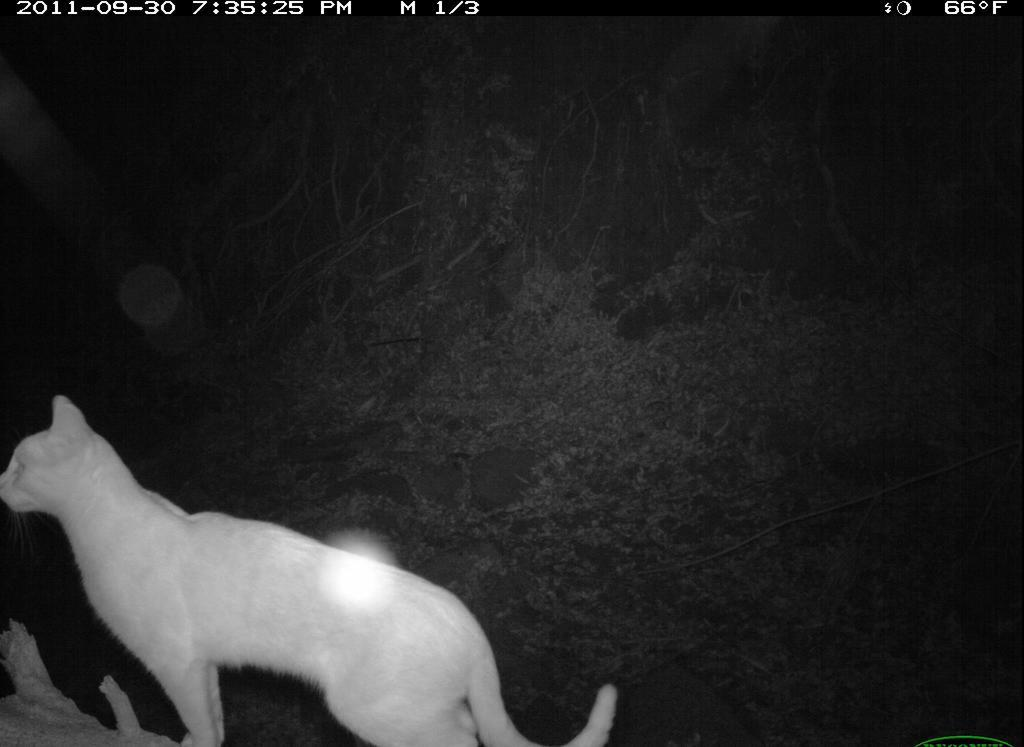cat: (8, 379, 646, 747)
